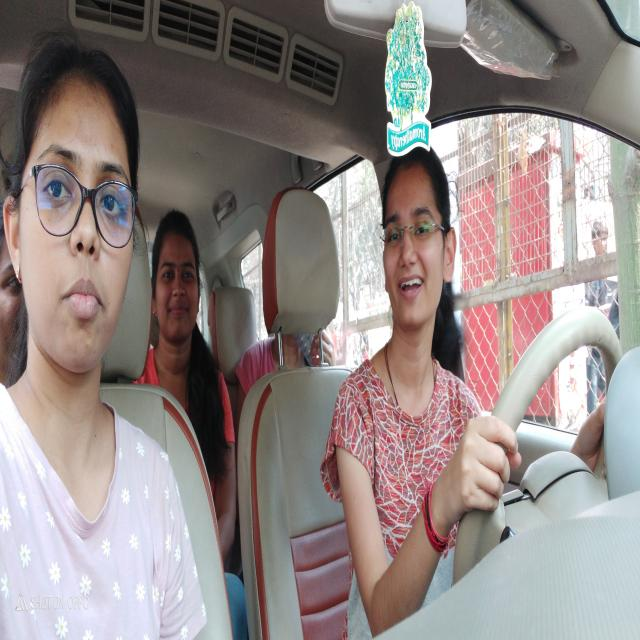LeftRight: (372, 146, 460, 371)
person: (9, 46, 142, 384), (153, 202, 210, 361)
talking: (392, 268, 430, 304)
